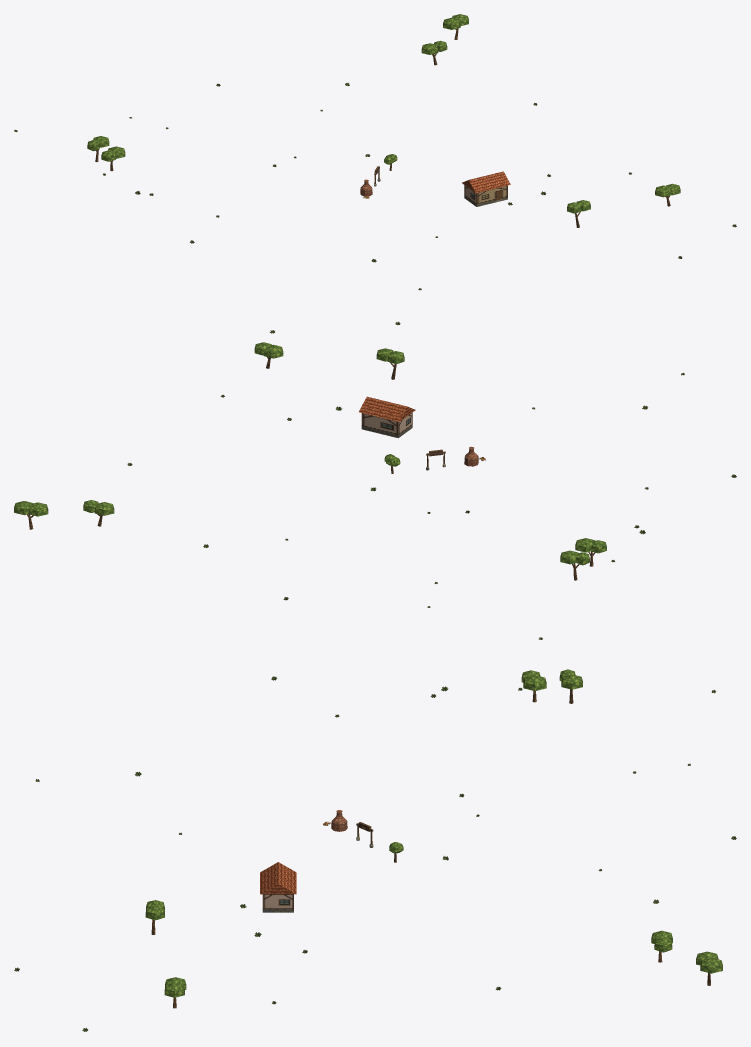
Rendered from FieldCell_4_6.fbx.
3 renders of one model, top to bottom at view 1: azimuth 30°, elevation 25°; view 2: azimuth 150°, elevation 25°; view 3: azimuth 270°, elevation 25°, orthographic. The views are drawn at different scales.
Visible parts, largest first — view 1: FieldCell_4_6; view 2: FieldCell_4_6; view 3: FieldCell_4_6.
Boxes of the visible parts, <box> form: FieldCell_4_6: <box>87,14,680,227</box>; FieldCell_4_6: <box>14,342,606,580</box>; FieldCell_4_6: <box>145,669,722,1008</box>.
Size of the model in its own units: 13933 by 1669 by 14203.
